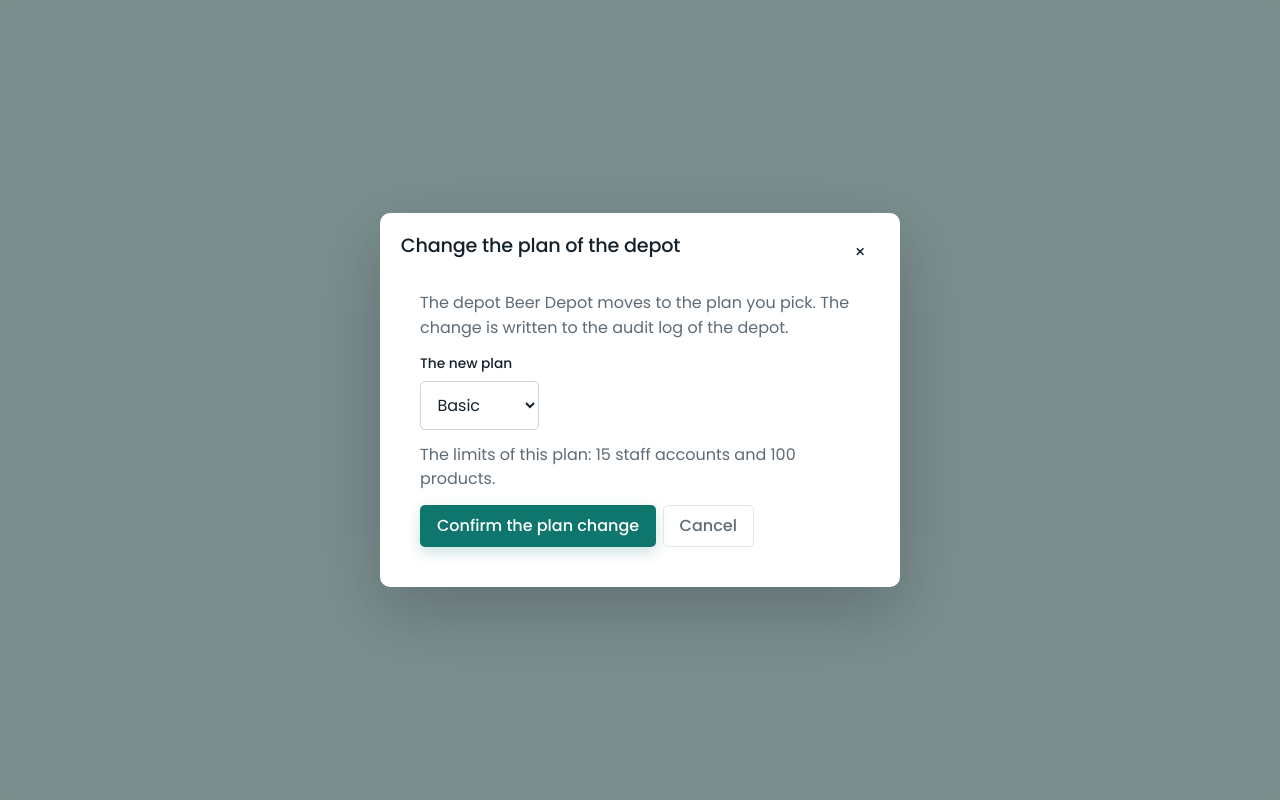
Test: the confirmation of a plan change › shows the error of the API and keeps the dialog open
Click the button "Confirm the plan change" at (538, 526), box [420,505,656,547]
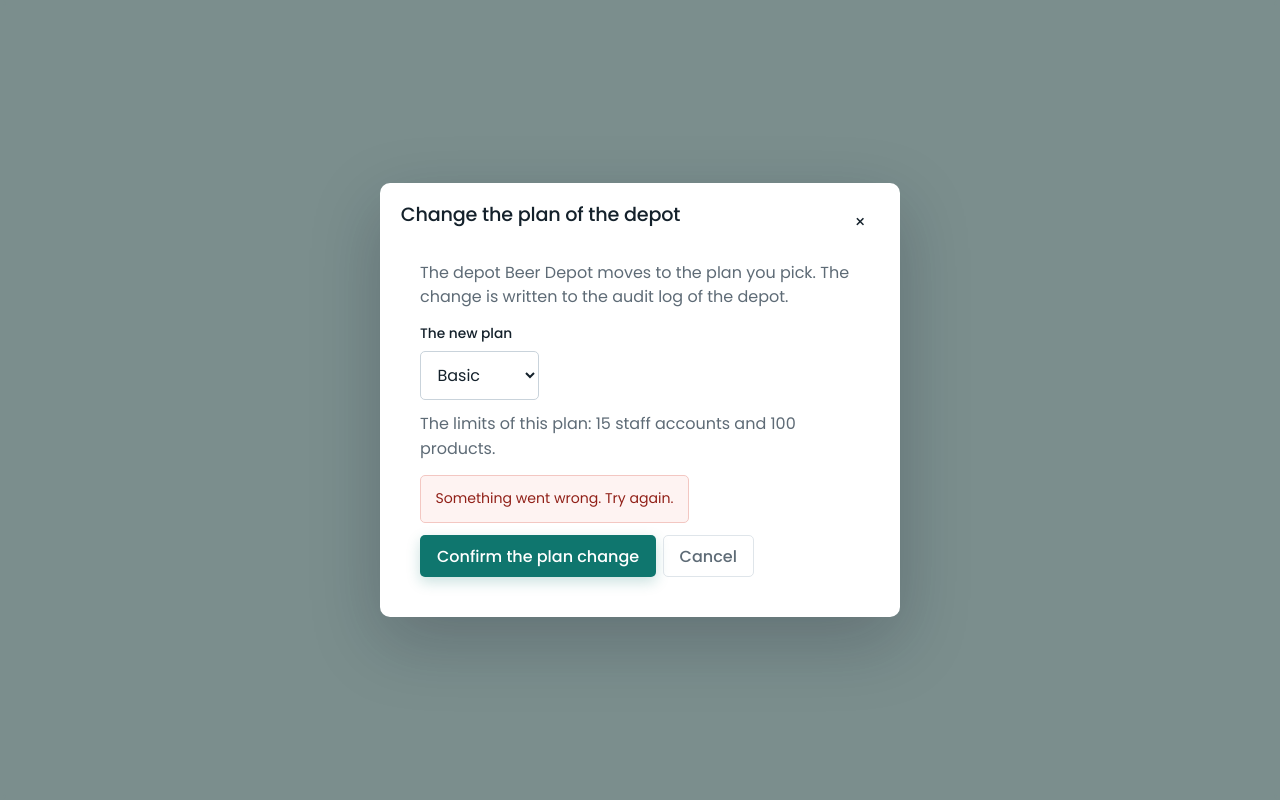
Expected: the message "Something went wrong. Try again." is shown, [420,475,689,522]
